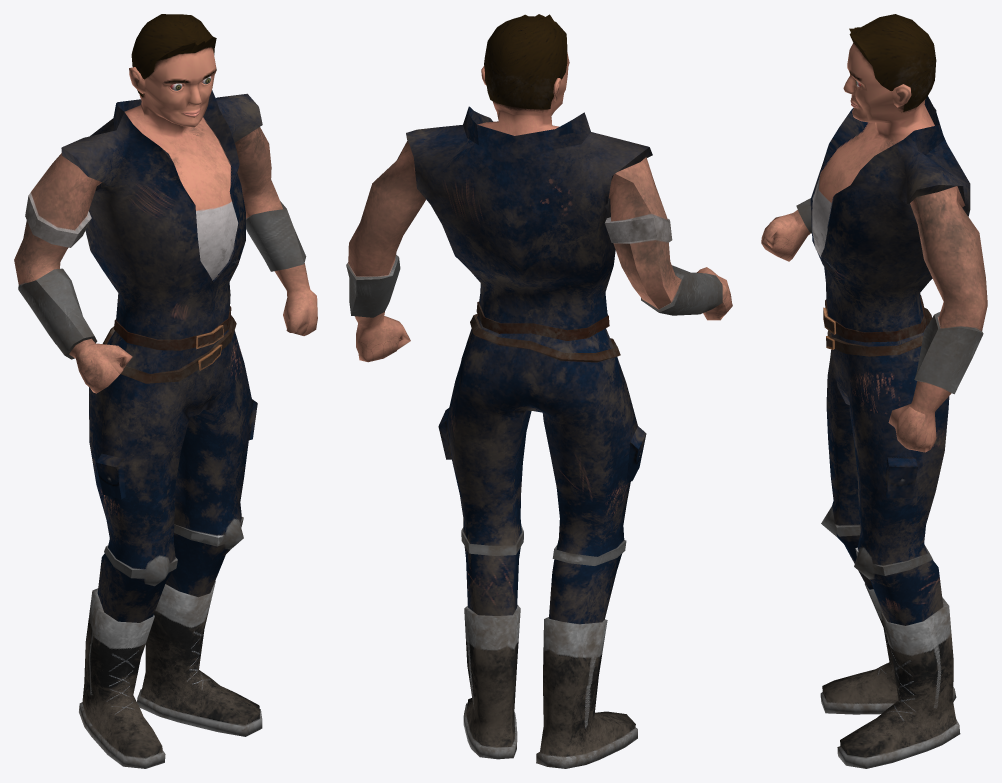
File: Anim_puerta_mal_jugador.0019.obj
3 views of the same model, side by side, from view 1: azimuth 30°, elevation 25°; view 2: azimuth 150°, elevation 25°; view 3: azimuth 270°, elevation 25° (orthographic).
Parts seen in each view (by area): view 1: polySurface1; view 2: polySurface1; view 3: polySurface1.
Boxes of the visible parts, x1,y1,x2,y2 form: polySurface1: (14, 14, 317, 768); polySurface1: (346, 14, 732, 768); polySurface1: (761, 14, 987, 768).
Bounding box in the file's own units: 4.32 × 9.58 × 2.75.
